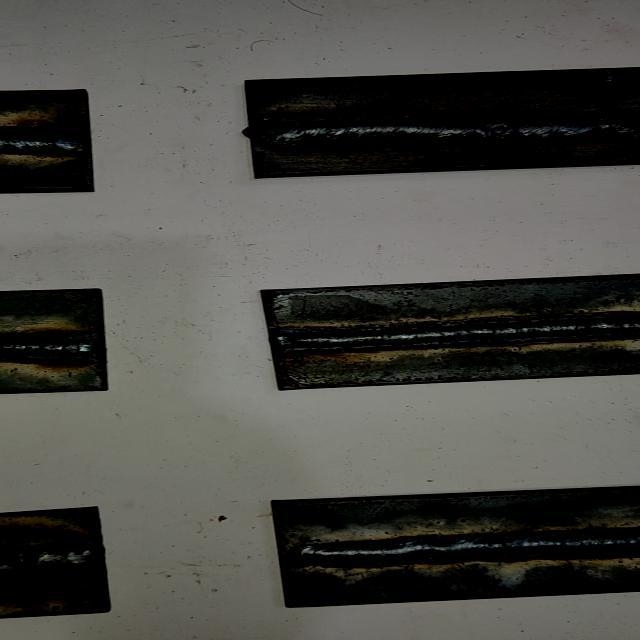Welding Line: (273, 314, 640, 349), (286, 531, 640, 566), (252, 115, 640, 140), (0, 546, 98, 582), (0, 335, 104, 361), (0, 130, 88, 155)
Workpiece: (236, 60, 640, 184), (258, 483, 640, 612), (254, 268, 640, 394), (0, 501, 123, 622), (0, 280, 118, 396), (0, 86, 110, 195)
